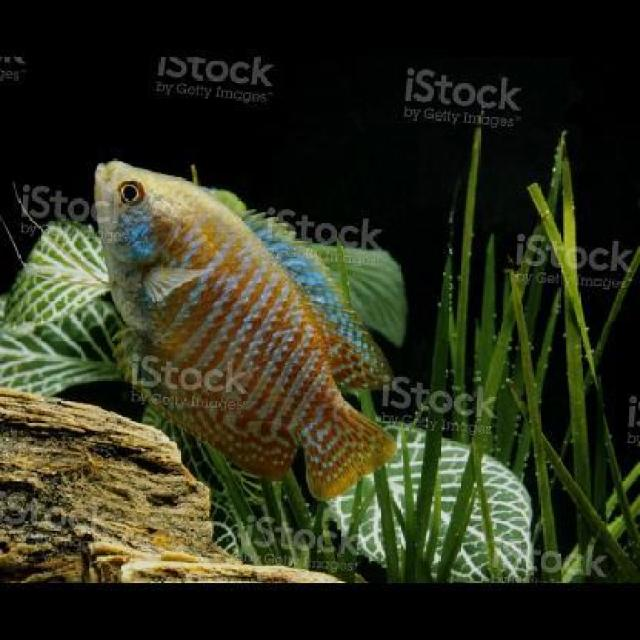Gourami: (92, 155, 400, 494)
